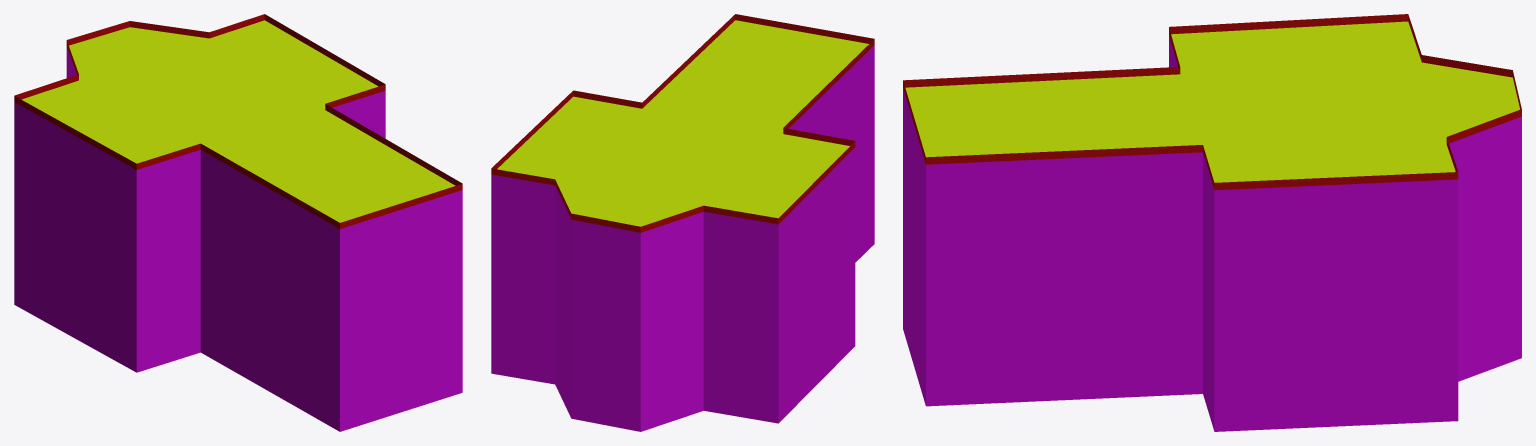
The model's file is rmc_191.glb.
3 views of the same model, side by side, from view 1: azimuth 30°, elevation 25°; view 2: azimuth 150°, elevation 25°; view 3: azimuth 270°, elevation 25° (orthographic). The views are drawn at different scales.
Visible parts, largest first — view 1: rmc_191; view 2: rmc_191; view 3: rmc_191.
Boxes of the visible parts, x1,y1,x2,y2 form: rmc_191: (14, 14, 462, 431); rmc_191: (491, 14, 874, 431); rmc_191: (903, 14, 1521, 431).
Size of the model in its own units: 16.95 by 11.66 by 26.24.
